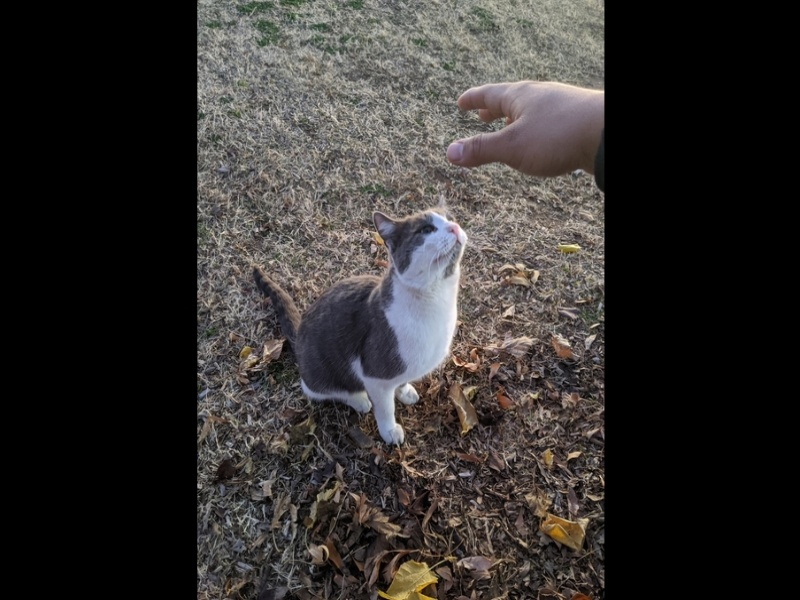cat: (248, 198, 471, 448)
